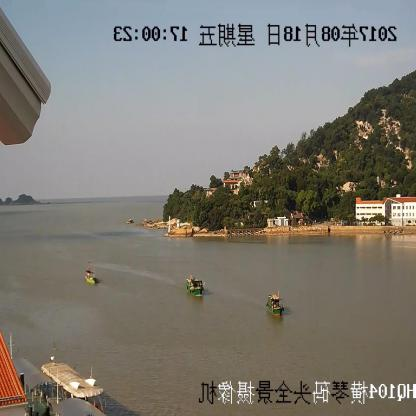Fishing Boat: (267, 294, 283, 315), (186, 278, 204, 296), (86, 268, 98, 284)
